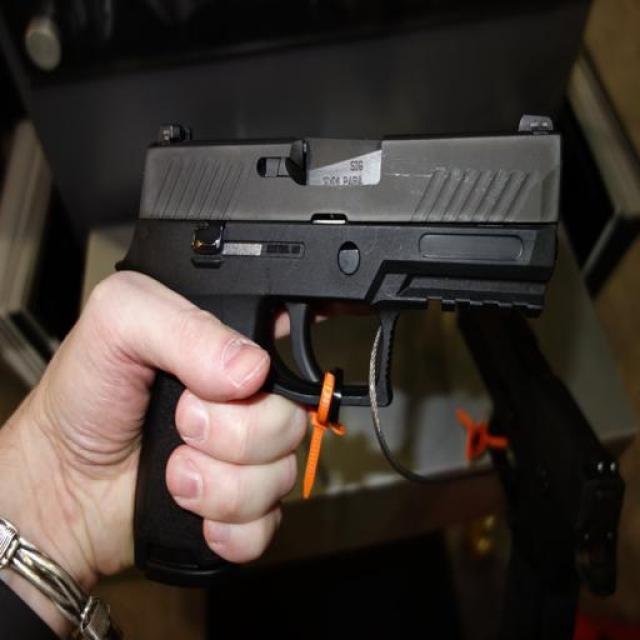pistol: (112, 107, 565, 587)
